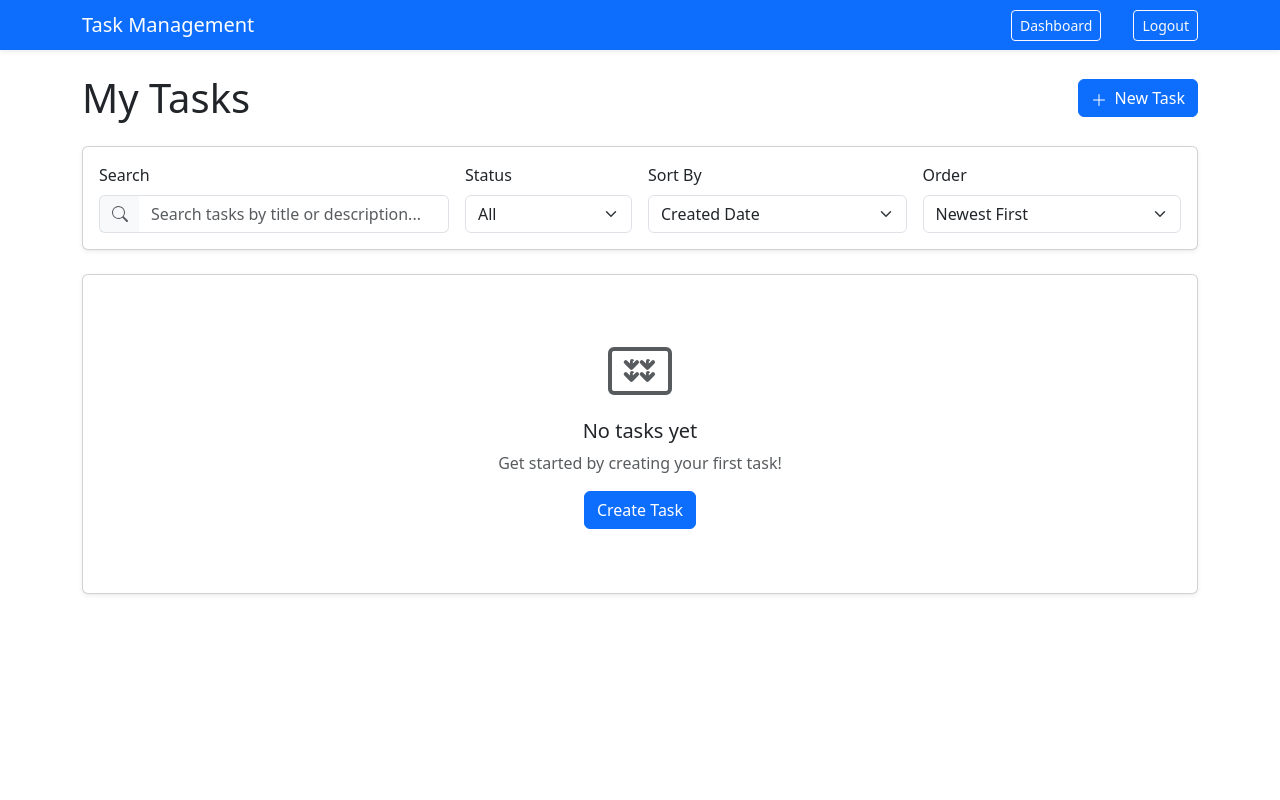
Scenario: TasksPage › should open create modal when New Task button is clicked
The image size is (1280, 800).
Click the button "New Task": (1138, 98) [1078,79,1198,117]
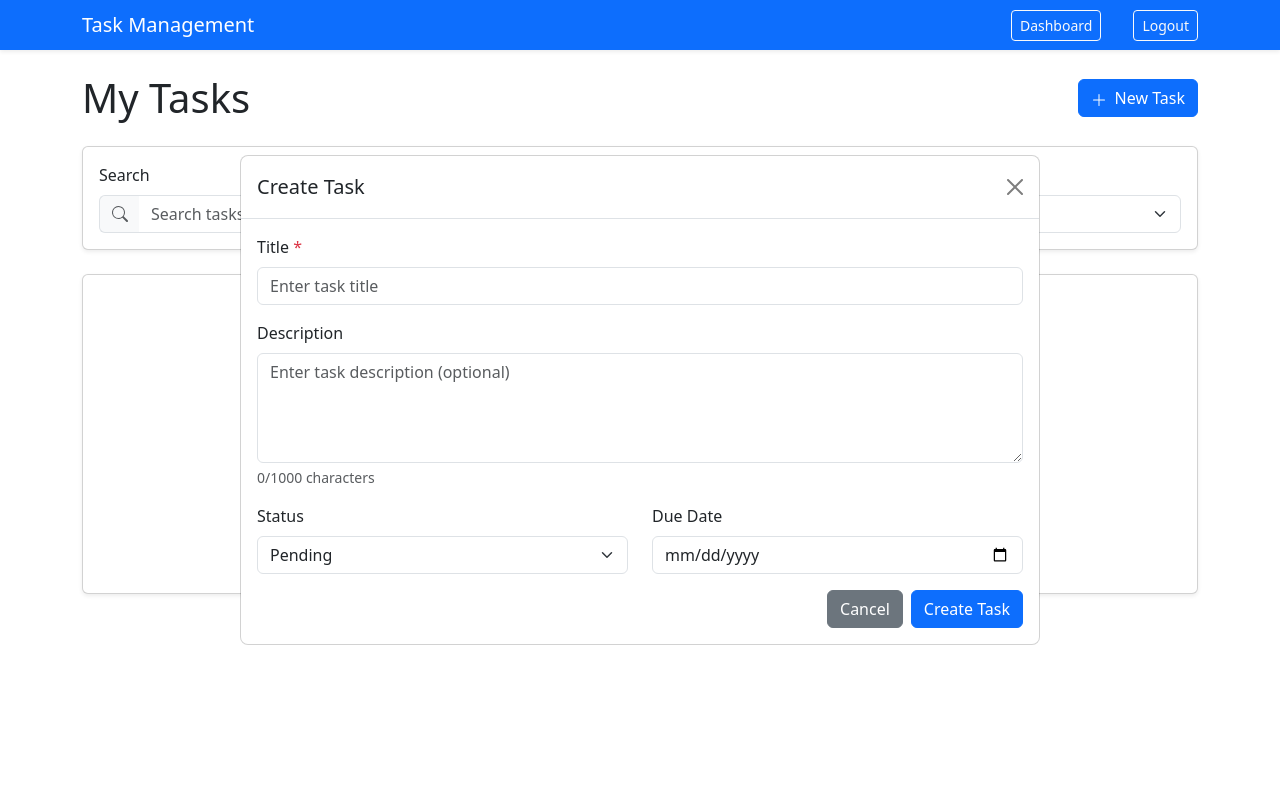
Expected: the dialog is shown, [240,155,1040,645]
Expected: the heading "Create Task" is shown, [257,172,365,202]
